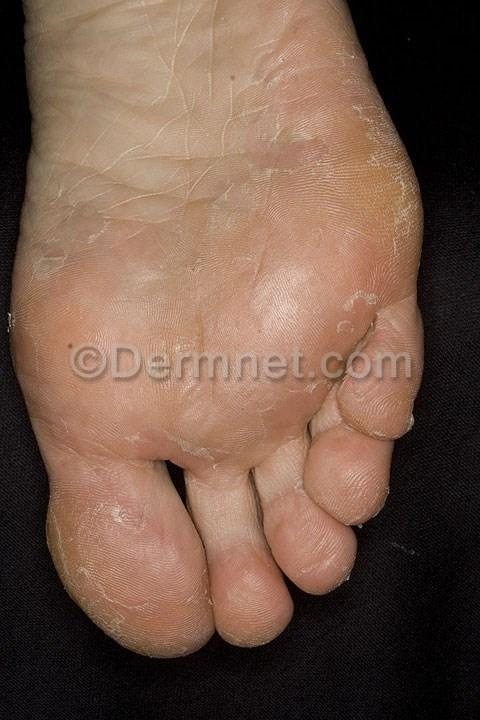Eczema: (161, 160, 317, 344), (21, 181, 163, 339), (315, 130, 423, 335), (51, 388, 174, 545), (68, 523, 219, 644), (183, 382, 270, 510), (276, 386, 362, 515), (213, 529, 295, 636), (284, 507, 349, 574), (363, 383, 410, 425)
